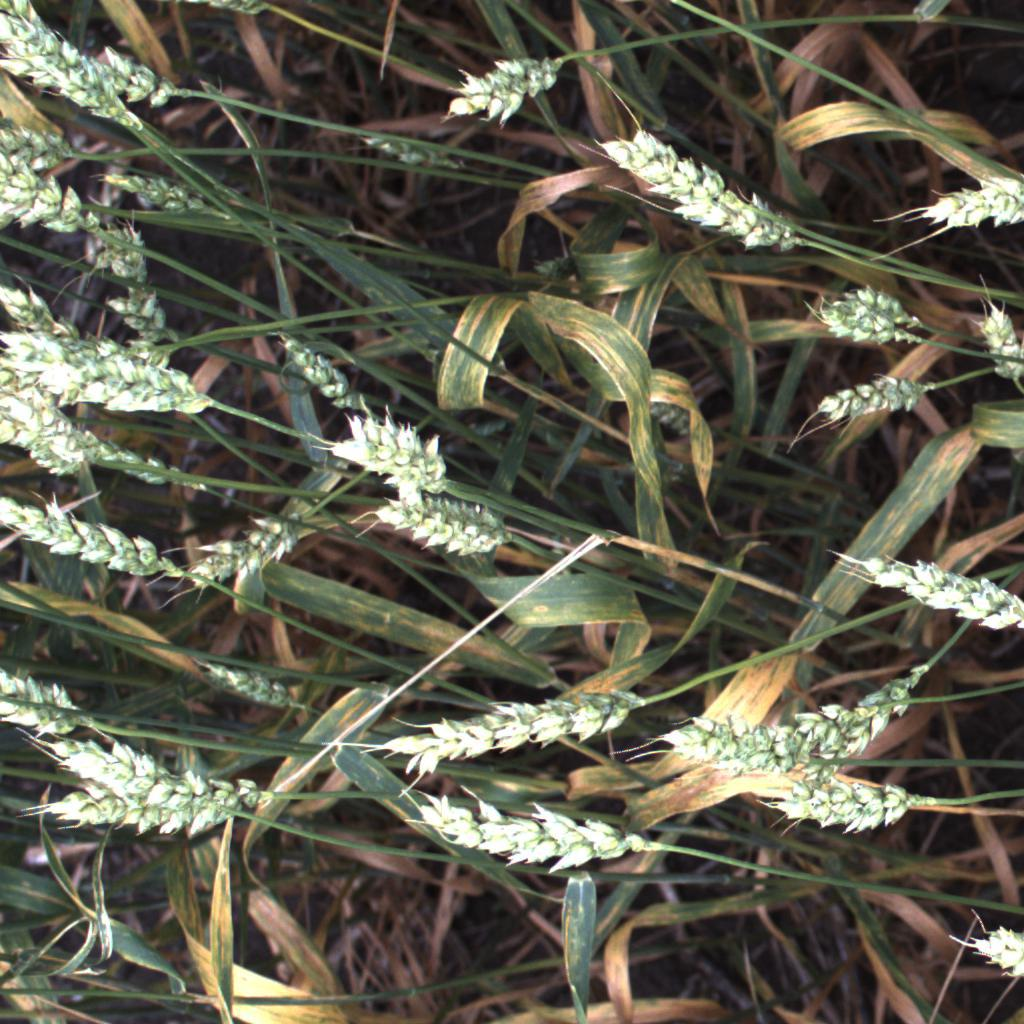0-0: (596, 133, 818, 274), (410, 778, 652, 887), (376, 691, 655, 784), (828, 526, 1024, 658), (11, 768, 286, 860), (630, 686, 915, 770), (699, 759, 952, 847), (0, 488, 192, 599), (783, 662, 953, 782), (32, 716, 233, 817), (0, 326, 217, 414), (316, 395, 475, 490), (0, 7, 152, 106), (178, 506, 312, 609), (434, 37, 571, 126), (0, 143, 108, 252), (801, 357, 938, 439), (360, 483, 511, 555), (92, 155, 233, 229), (0, 99, 145, 164), (0, 653, 93, 754), (898, 161, 1024, 235), (801, 284, 924, 359), (189, 645, 303, 725), (97, 435, 250, 494), (99, 269, 205, 350), (829, 260, 935, 340), (260, 318, 372, 392), (86, 50, 207, 115), (1, 410, 108, 479), (943, 906, 1024, 990), (961, 287, 1024, 394), (67, 212, 157, 284), (0, 264, 81, 341), (359, 133, 460, 175)
